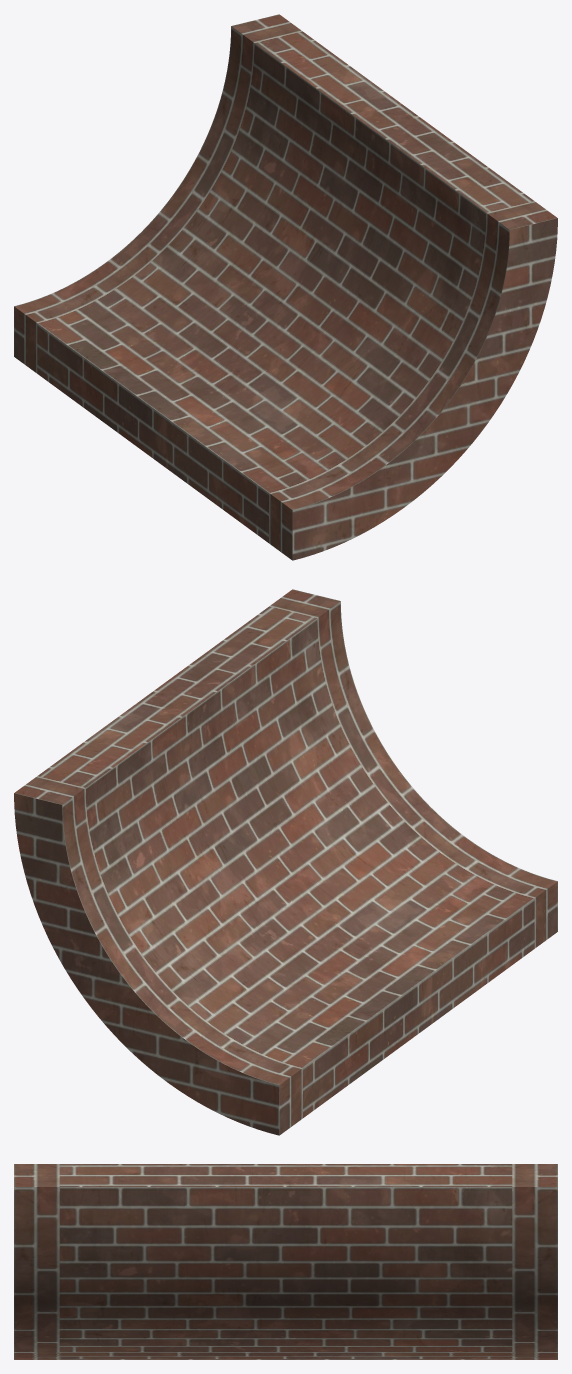
The model's file is ramp_90_curved.dae.
The picture shows the model from 3 angles, top to bottom: view 1: azimuth 30°, elevation 25°; view 2: azimuth 150°, elevation 25°; view 3: azimuth 270°, elevation 25°; orthographic projection. The views are drawn at different scales.
Parts seen in each view (by area): view 1: Component_13 (×2); view 2: Component_13 (×2); view 3: Component_13.
Part boxes in pixels (left/top/right/bottom): Component_13 (×2): left=14, top=14, right=557, bottom=560; Component_13 (×2): left=14, top=589, right=557, bottom=1135; Component_13: left=14, top=1164, right=557, bottom=1359.
Bounding box in the file's own units: 21.65 × 39.37 × 21.65.
Materials: 2 (2 with a texture image).
